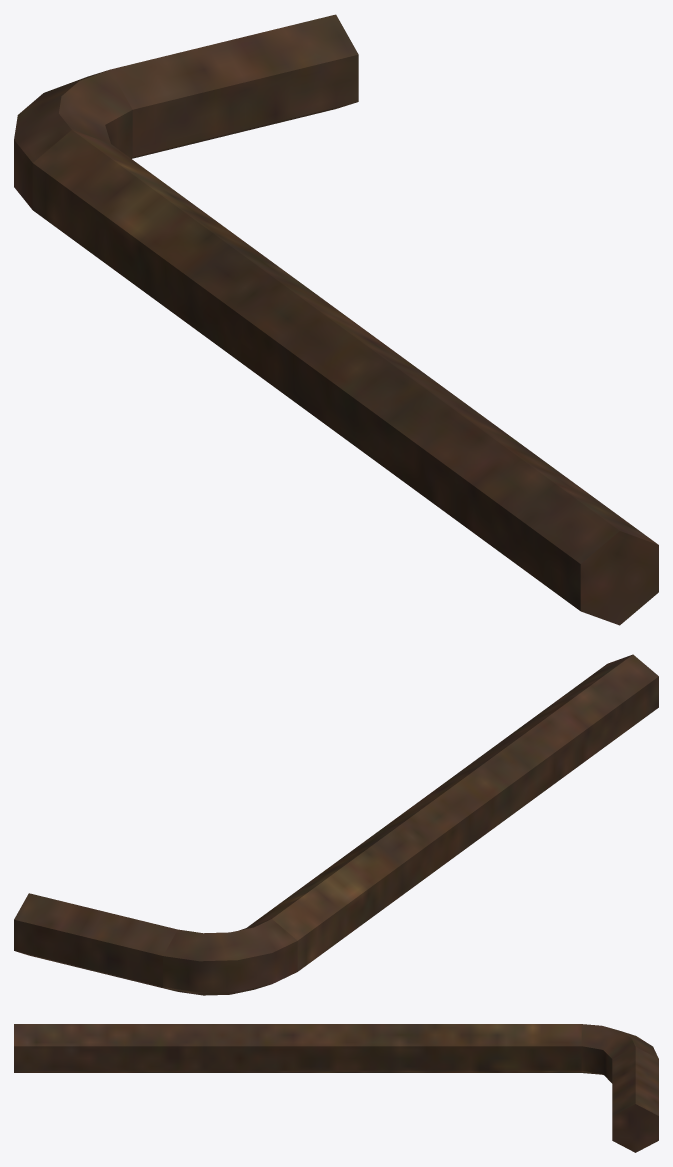
Rendered from allen_key_mx_1.dae.
3 renders of one model, top to bottom at view 1: azimuth 30°, elevation 25°; view 2: azimuth 150°, elevation 25°; view 3: azimuth 270°, elevation 25°, orthographic. The views are drawn at different scales.
Parts seen in each view (by area): view 1: allen_key_mx_1; view 2: allen_key_mx_1; view 3: allen_key_mx_1.
Boxes of the visible parts, box(x1,y1,x2,y2) form: allen_key_mx_1: box(14, 14, 658, 625); allen_key_mx_1: box(14, 654, 658, 995); allen_key_mx_1: box(14, 1024, 658, 1152).
Size of the model in its own units: 0.0787 by 0.2387 by 0.02.
Materials: 1 (1 with a texture image).
